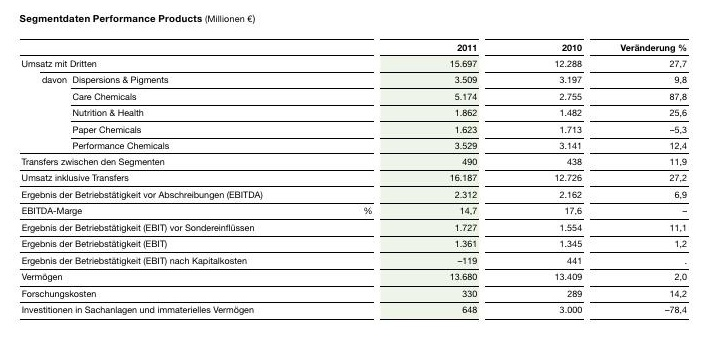table: (0, 0, 705, 338)
